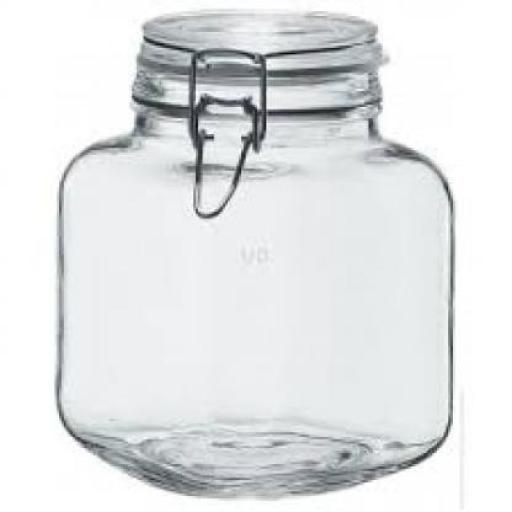glass: (56, 11, 450, 494)
